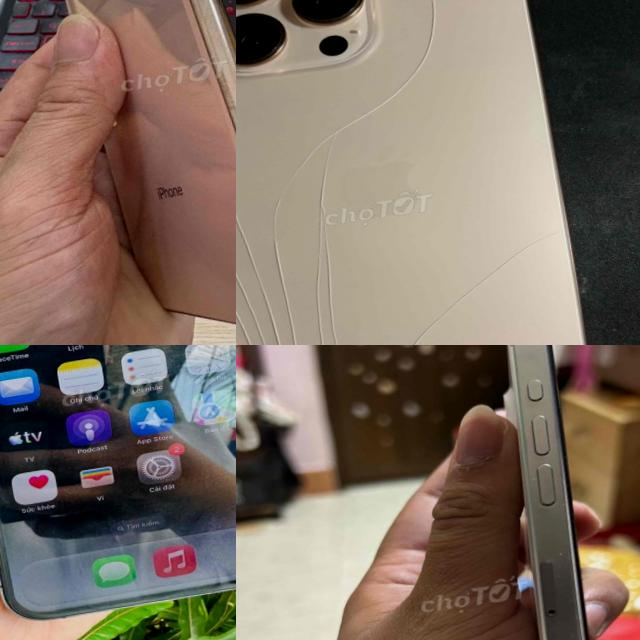physical_damage: (236, 192, 369, 345), (269, 86, 406, 188), (339, 277, 487, 345), (379, 0, 457, 107), (462, 216, 570, 276)
scratch: (541, 546, 584, 640), (526, 470, 542, 482), (559, 498, 571, 508)
